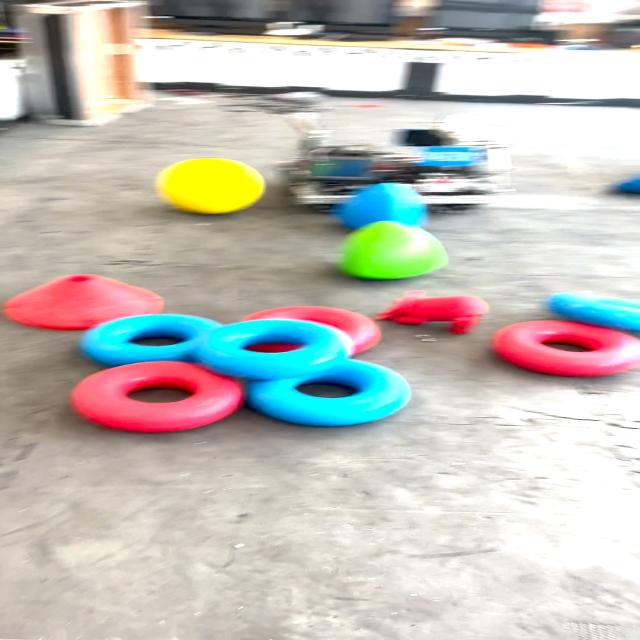Blue-Ring: (247, 359, 411, 426), (196, 319, 351, 380), (80, 314, 222, 366), (545, 290, 640, 332)
Red-Ring: (71, 361, 242, 432), (491, 320, 640, 376), (242, 306, 382, 353)
